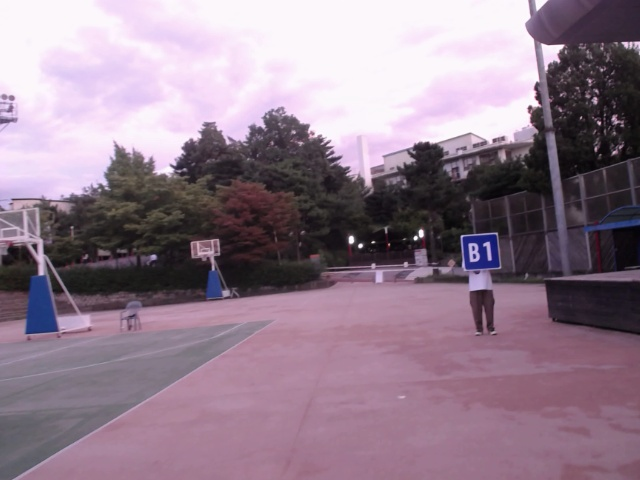delivery_b1: (460, 232, 499, 271)
